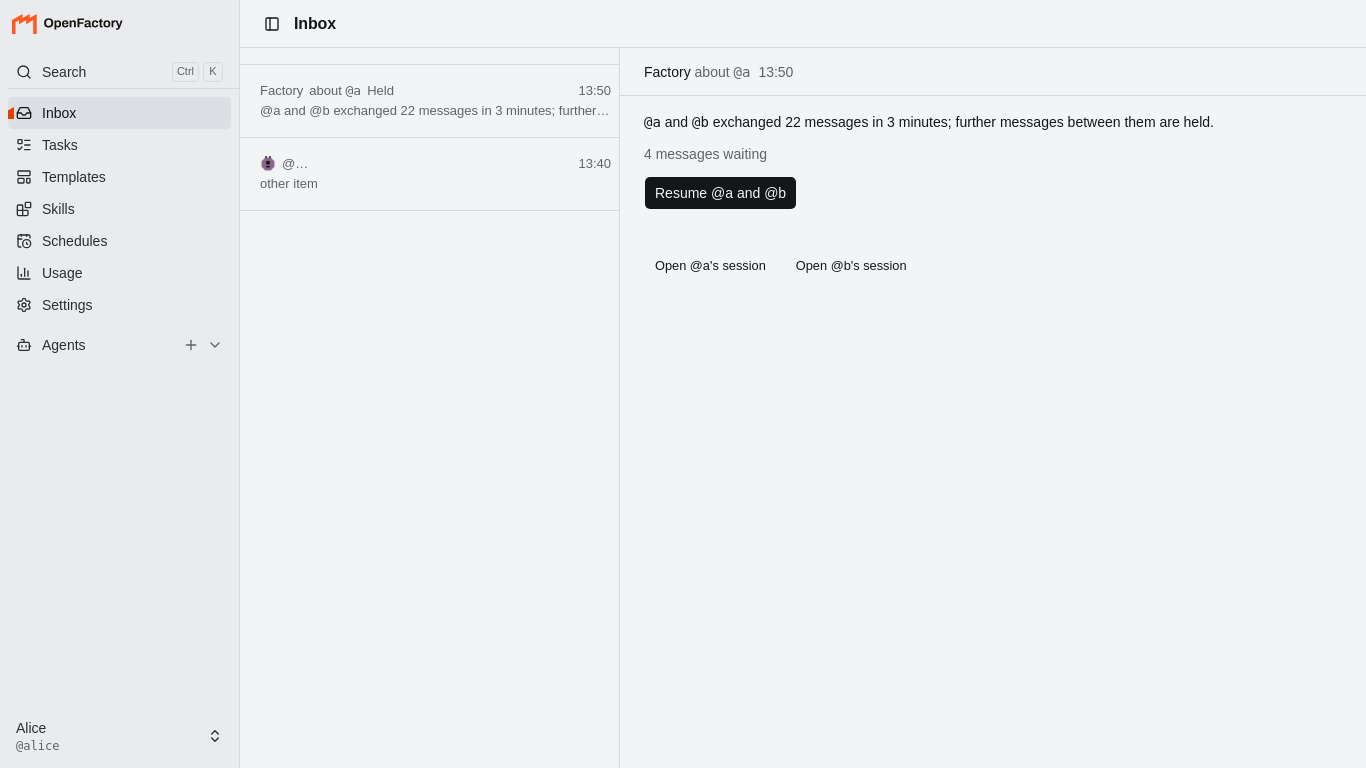
Test: a Resume that had nothing to send says so
Expected: the text "exchanged 22 messages" is shown, [709,114,1214,130]
What coordinates should you click on to do the following:
click the button "Resume @a and @b"
I would click on:
 (721, 193)
Its box is [644,176,797,210].
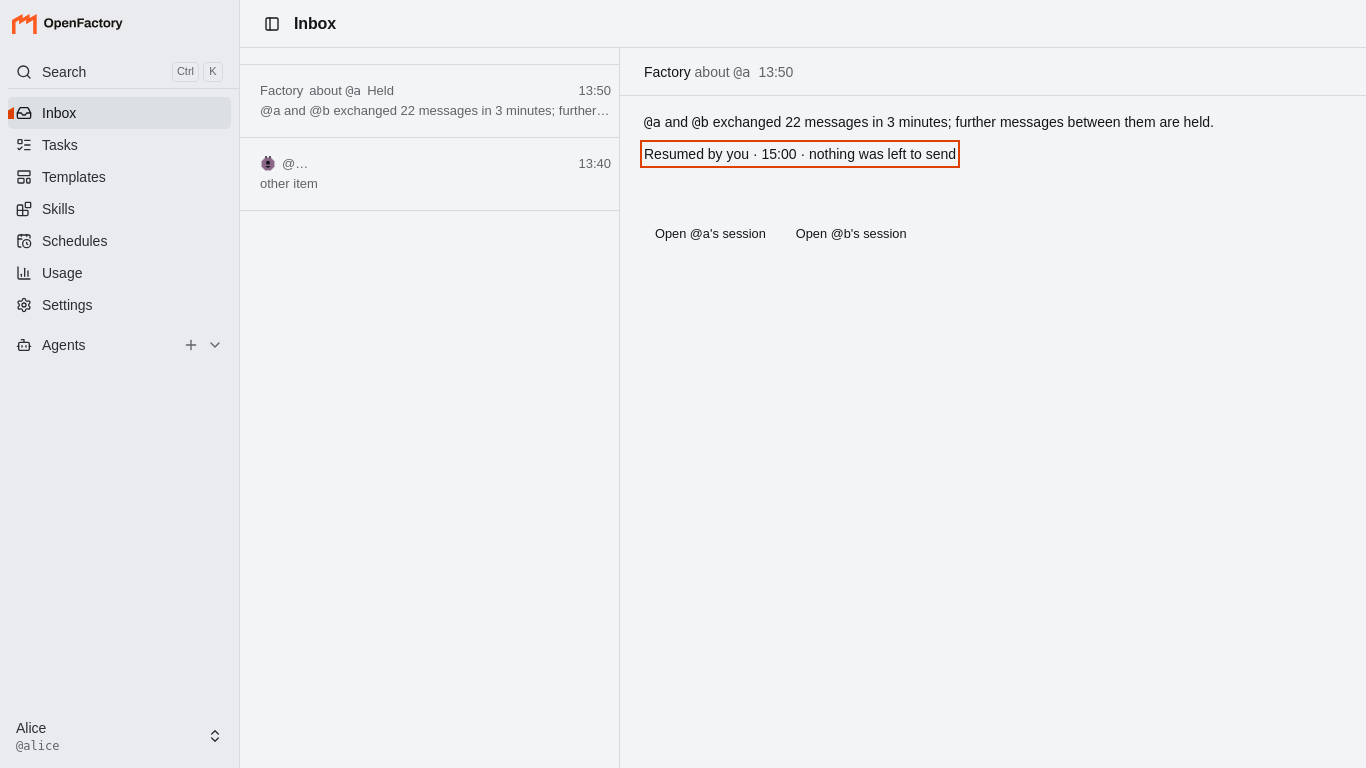
Expected: the message reads "Resumed by you · 15:00 · nothing was left to send", [644,144,956,164]
